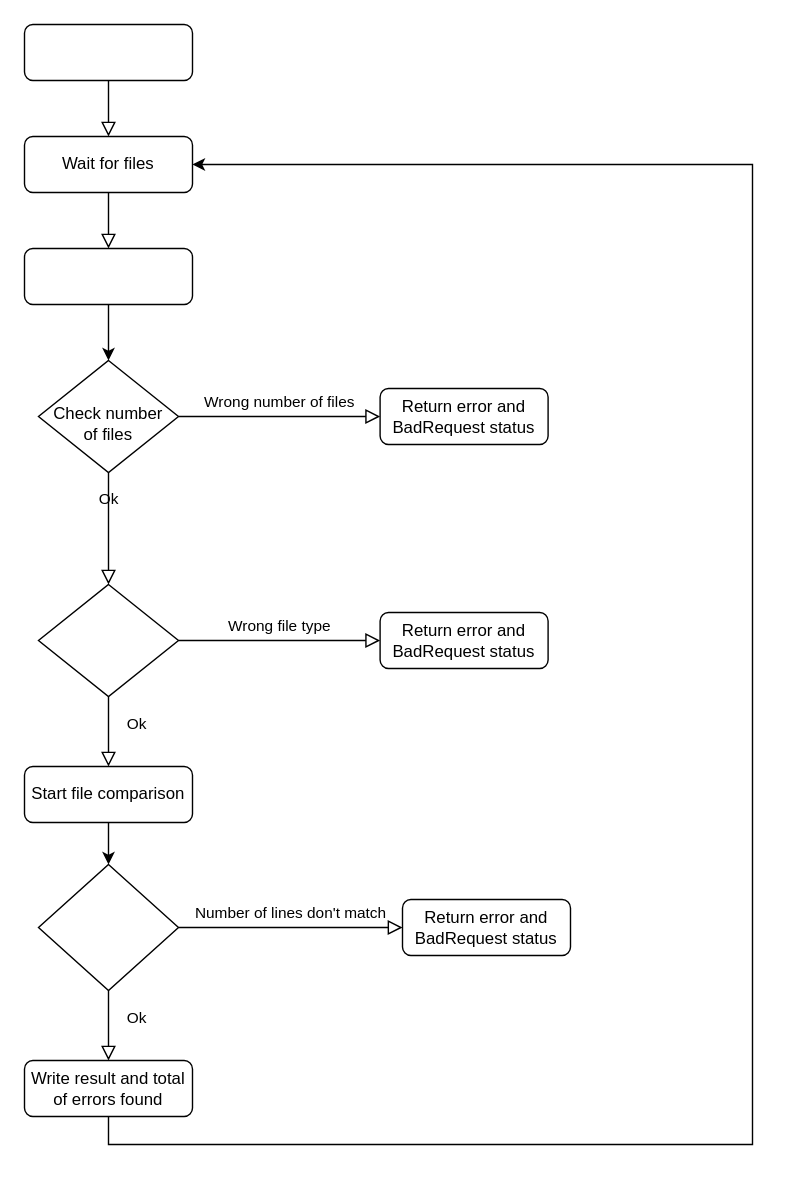
Image size: 788x1180. Some labels were removed from this diagram. The centre of each missing label's shape, as x and y in pixels:
"Check file type" goes at [107,639].
"Check number of lines match" goes at [107,926].
"Receive files" goes at [107,275].
"Run server" goes at [107,51].
